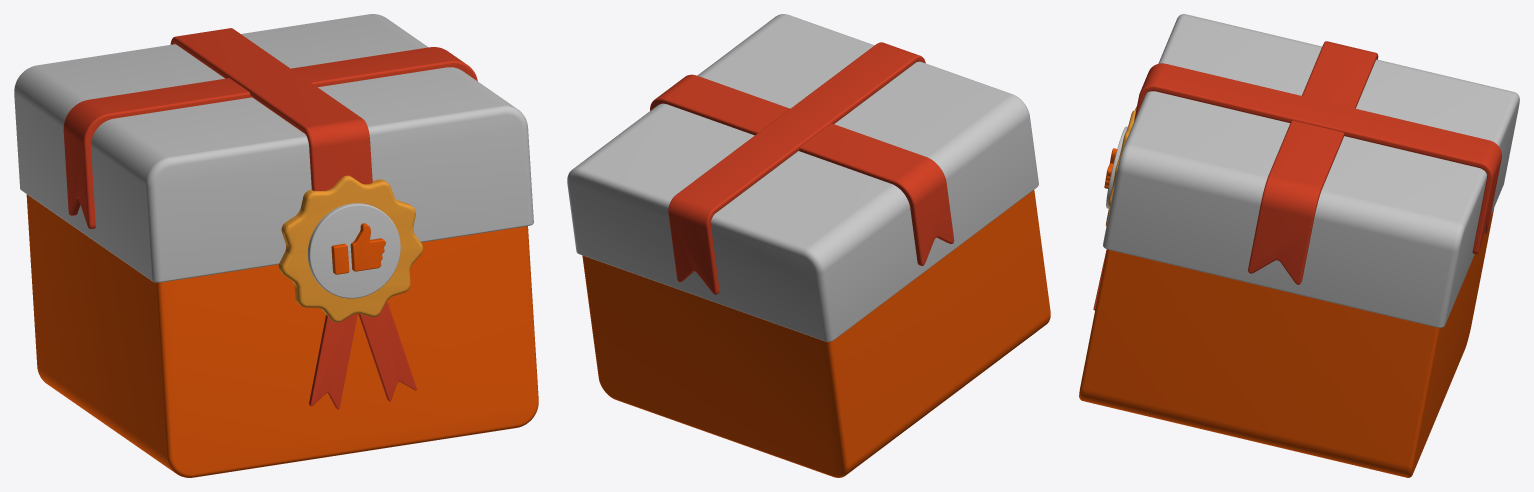
3 views of the same model, side by side, from view 1: azimuth 30°, elevation 25°; view 2: azimuth 150°, elevation 25°; view 3: azimuth 270°, elevation 25° (orthographic). The views are drawn at different scales.
Parts seen in each view (by area): view 1: Cube.002_Cube.001, Cube, Cube.001_Cube.006, Cube.005, Cylinder, Cylinder.001, Plane, Plane.001, Vert; view 2: Cube, Cube.002_Cube.001, Cube.001_Cube.006, Cube.005; view 3: Cube, Cube.002_Cube.001, Cube.005, Cube.001_Cube.006.
Boxes of the visible parts, x1,y1,x2,y2 form: Cube.002_Cube.001: (26, 194, 538, 477); Cube: (14, 14, 533, 282); Cube.001_Cube.006: (170, 28, 372, 190); Cube.005: (63, 47, 477, 228); Cylinder: (278, 175, 423, 322); Cylinder.001: (307, 203, 400, 298); Plane: (309, 313, 357, 409); Plane.001: (358, 301, 416, 401); Vert: (331, 223, 385, 274); Cube: (567, 14, 1038, 341); Cube.002_Cube.001: (582, 190, 1050, 477); Cube.001_Cube.006: (668, 42, 925, 294); Cube.005: (650, 74, 954, 265); Cube: (1103, 14, 1519, 327); Cube.002_Cube.001: (1079, 208, 1494, 477); Cube.005: (1248, 41, 1378, 284); Cube.001_Cube.006: (1134, 63, 1501, 254).
Size of the model in its own units: 1.17 by 1.01 by 1.27.
